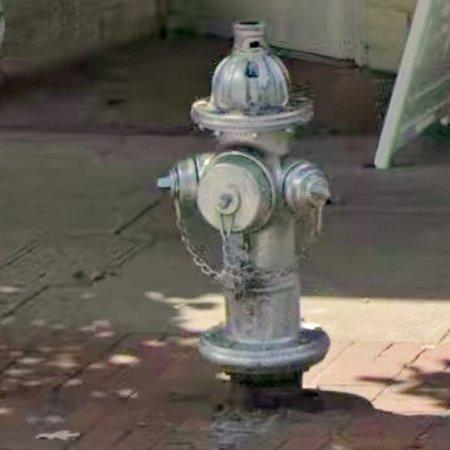a fire hydrant: (157, 21, 331, 388)
